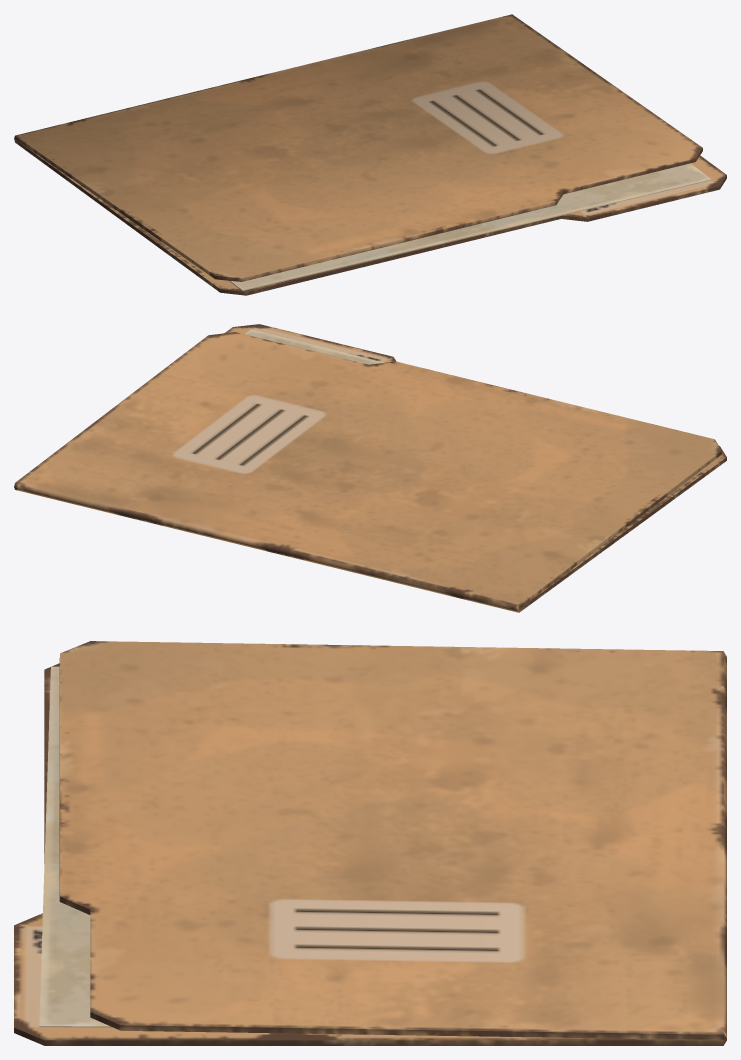
The model's file is fileFolder01_A.fbx.
3 views of the same model, one above another, from view 1: azimuth 30°, elevation 25°; view 2: azimuth 150°, elevation 25°; view 3: azimuth 270°, elevation 25° (orthographic). The views are drawn at different scales.
Visible parts, largest first — view 1: fileFolder01_A; view 2: fileFolder01_A; view 3: fileFolder01_A.
Part boxes in pixels (x1,y1,x2,y2): fileFolder01_A: [14, 14, 726, 295]; fileFolder01_A: [14, 324, 726, 612]; fileFolder01_A: [14, 641, 726, 1045].
Bounding box in the file's own units: 29.8 × 0.7822 × 23.4.
